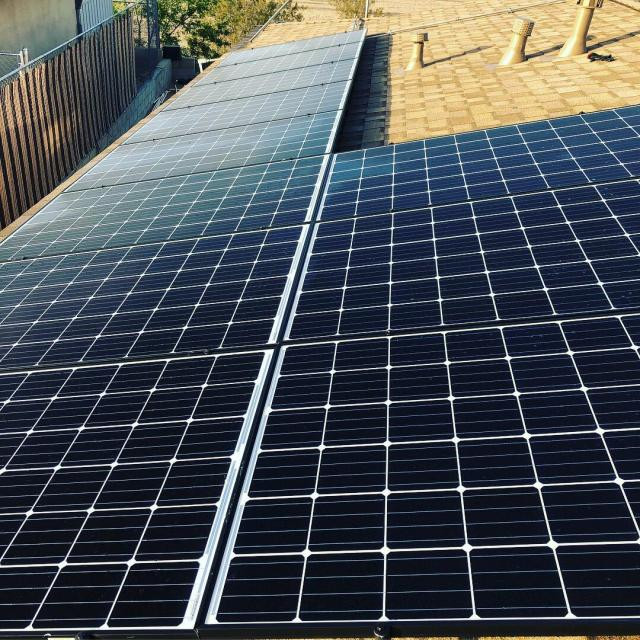clean-solar-panel: (0, 32, 640, 636)
